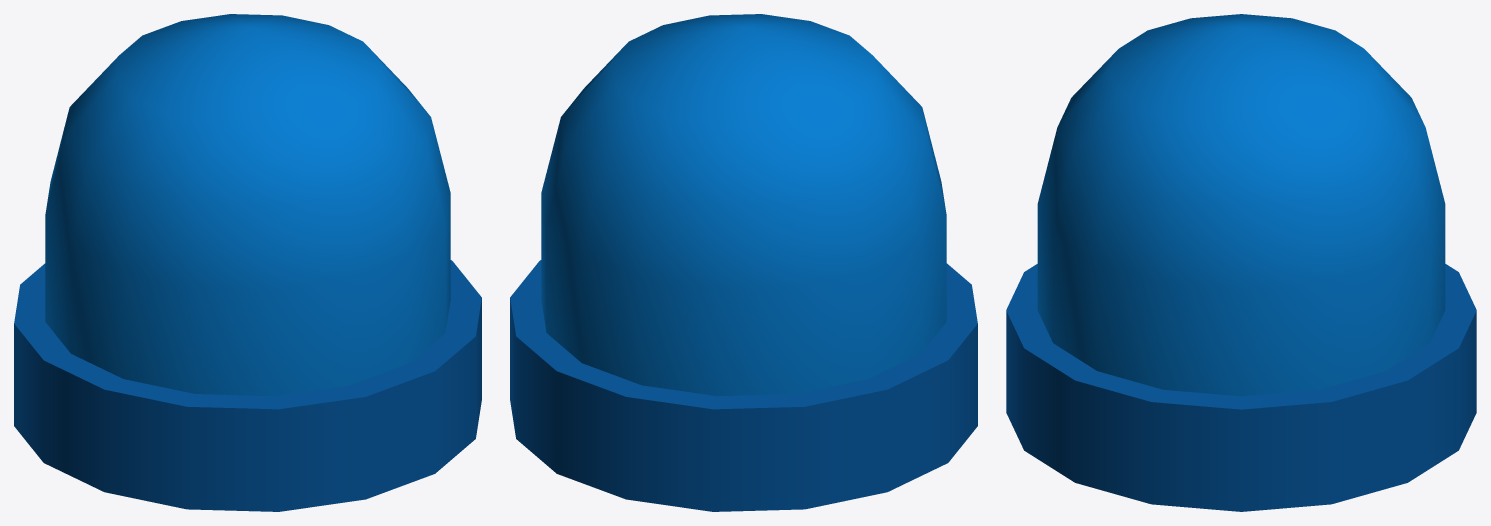
Rendered from Arm_Sleeve_S_03_L.fbx.
The picture shows the model from 3 angles, left to right: view 1: azimuth 30°, elevation 25°; view 2: azimuth 150°, elevation 25°; view 3: azimuth 270°, elevation 25°; orthographic projection.
Visible parts, largest first — view 1: Arm_Sleeve_S_03_L; view 2: Arm_Sleeve_S_03_L; view 3: Arm_Sleeve_S_03_L.
Part boxes in pixels (<box>): Arm_Sleeve_S_03_L: <box>14,14,481,511</box>; Arm_Sleeve_S_03_L: <box>510,14,977,511</box>; Arm_Sleeve_S_03_L: <box>1006,14,1476,511</box>.
Size of the model in its own units: 55.59 by 50.11 by 55.59.
